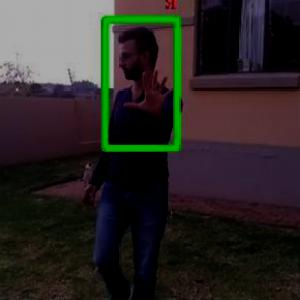follow_hand: (122, 66, 179, 119)
